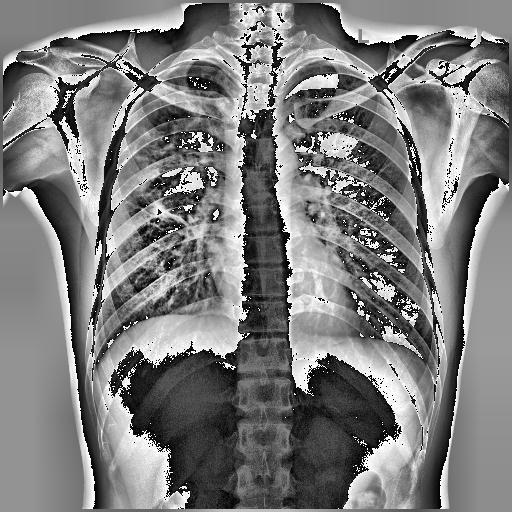11- Pleural thickening: (126, 60, 182, 110)
13- Pulmonary fibrosis: (115, 83, 213, 231), (131, 84, 226, 198), (138, 84, 206, 232), (150, 196, 190, 230), (150, 200, 194, 229)
6- Infiltration: (115, 83, 213, 231), (131, 84, 226, 198), (138, 84, 206, 232)
